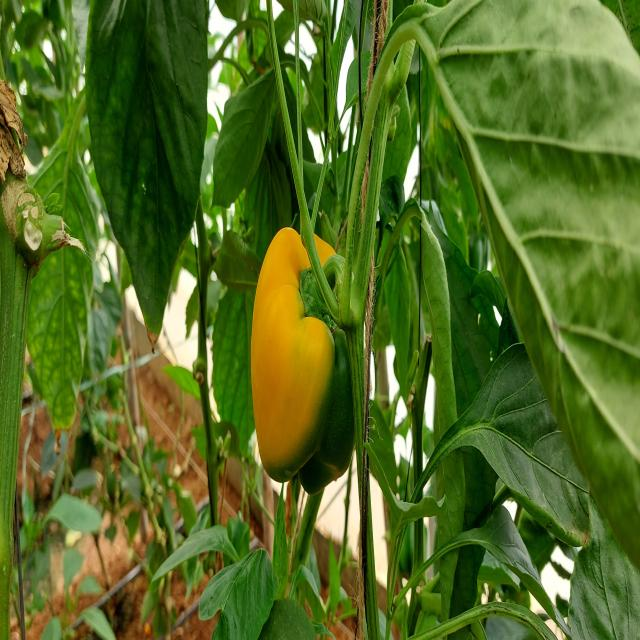GreenishYellow--Can-be-Harvested: (247, 204, 371, 501)
